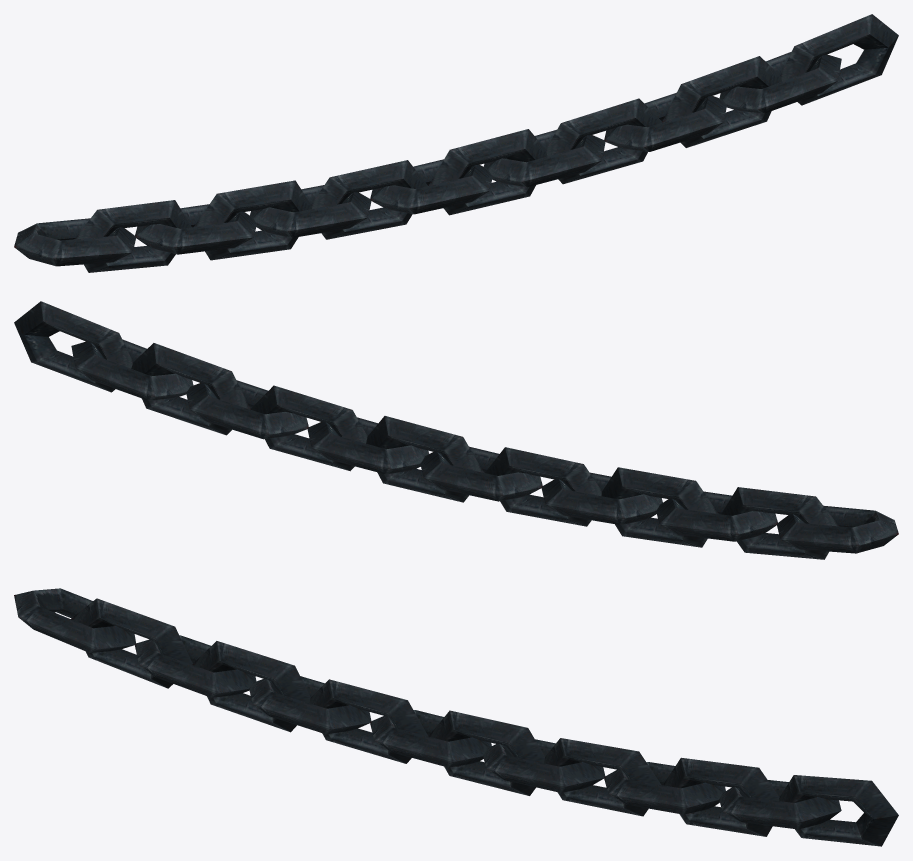
Rendered from 10507_Chain02.FBX.
The picture shows the model from 3 angles, top to bottom: view 1: azimuth 30°, elevation 25°; view 2: azimuth 150°, elevation 25°; view 3: azimuth 330°, elevation 25°; orthographic projection.
Parts seen in each view (by area): view 1: 10507_Chain02; view 2: 10507_Chain02; view 3: 10507_Chain02.
Part boxes in pixels (x1,y1,x2,y2): 10507_Chain02: (14, 14, 898, 272); 10507_Chain02: (14, 301, 898, 559); 10507_Chain02: (14, 588, 898, 846).
Bounding box in the file's own units: 1438 × 153 × 103.
